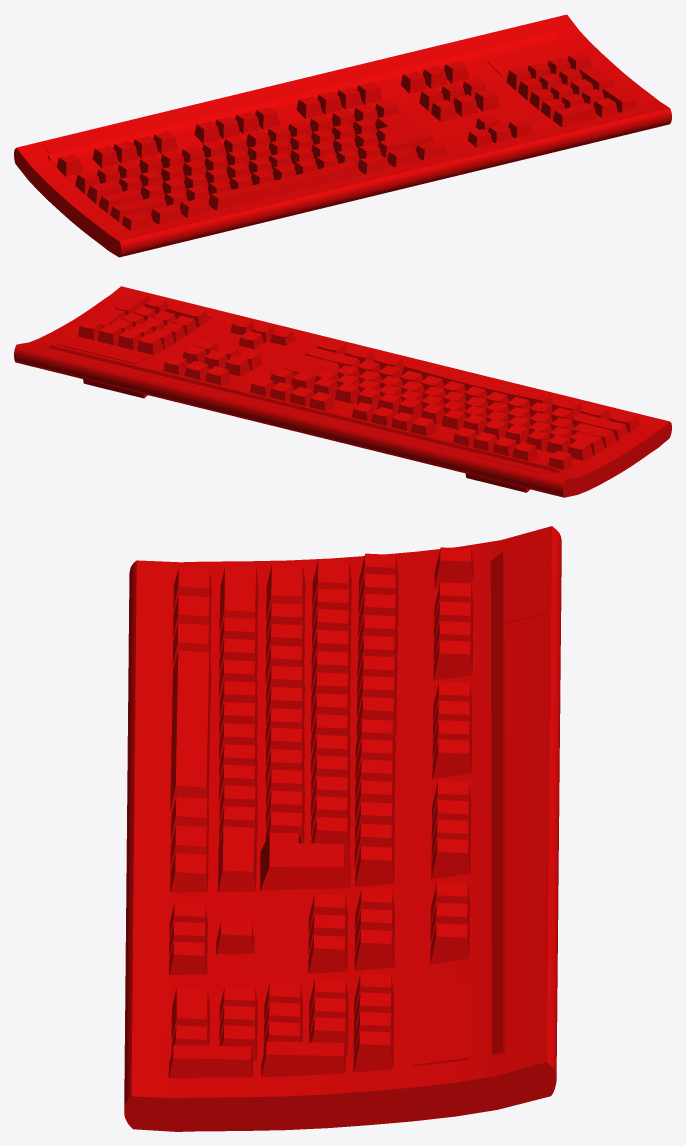
The model's file is keyboard.fbx.
3 views of the same model, one above another, from view 1: azimuth 30°, elevation 25°; view 2: azimuth 150°, elevation 25°; view 3: azimuth 270°, elevation 25° (orthographic). The views are drawn at different scales.
Parts seen in each view (by area): view 1: polySurface121; view 2: polySurface121; view 3: polySurface121.
Boxes of the visible parts, left/top/right/bottom form: polySurface121: left=14, top=14, right=671, bottom=257; polySurface121: left=14, top=286, right=671, bottom=497; polySurface121: left=124, top=526, right=561, bottom=1131.
Bounding box in the file's own units: 28.25 × 1.79 × 9.73.
